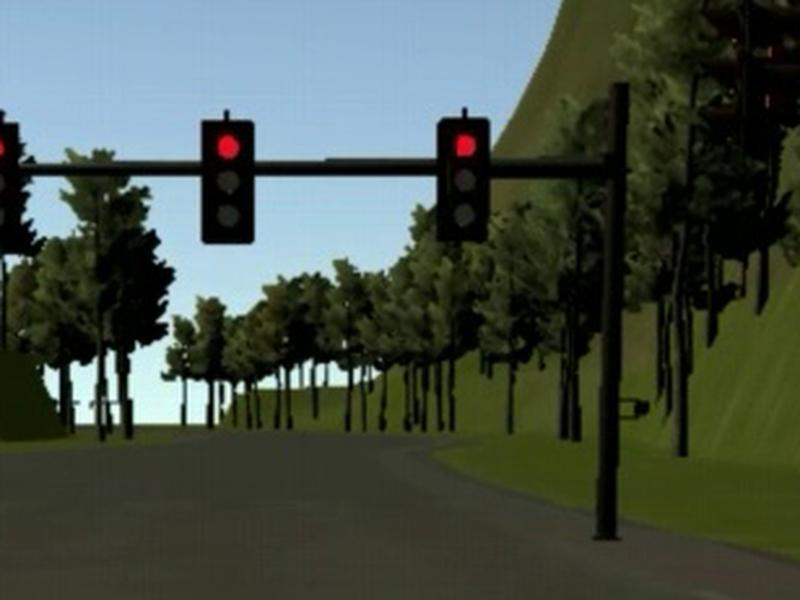Red: (201, 120, 254, 245), (438, 118, 491, 241), (1, 124, 20, 253)
